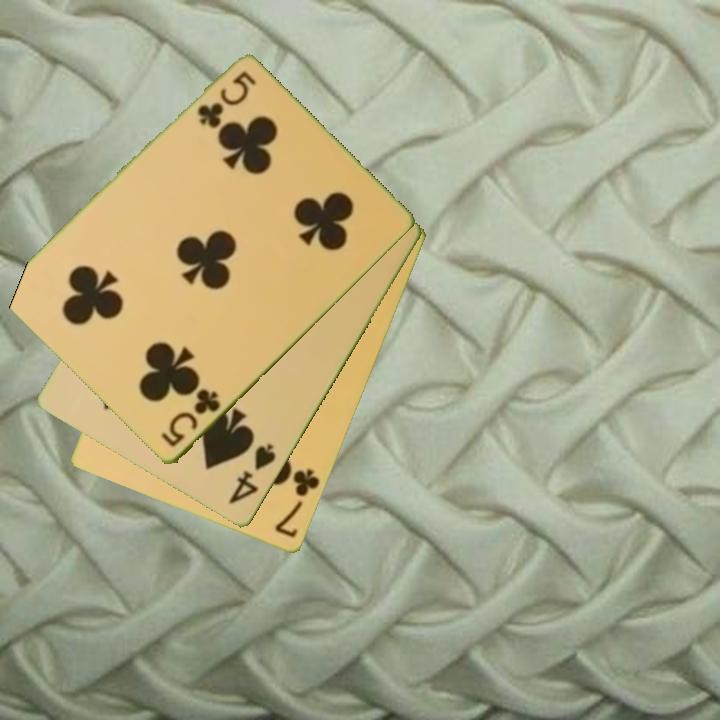4s: (225, 440, 279, 508)
5c: (157, 385, 224, 451), (193, 68, 259, 131)
7c: (271, 465, 323, 541)
